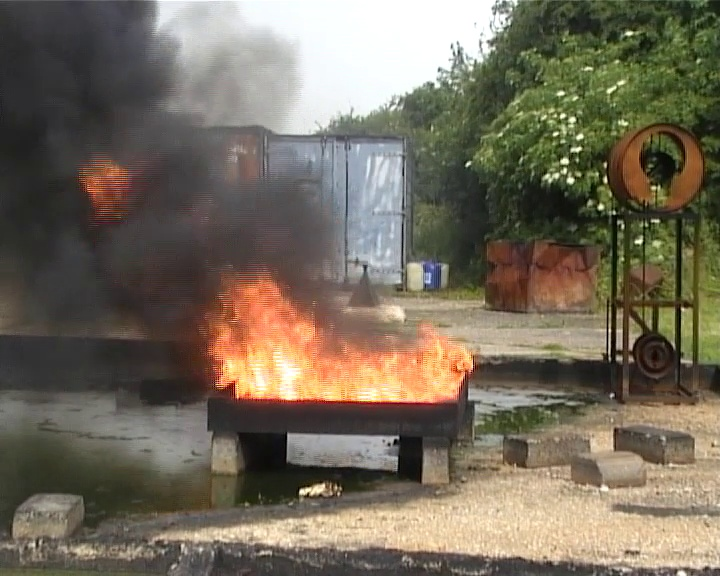fire: (214, 288, 474, 401), (81, 162, 124, 201)
